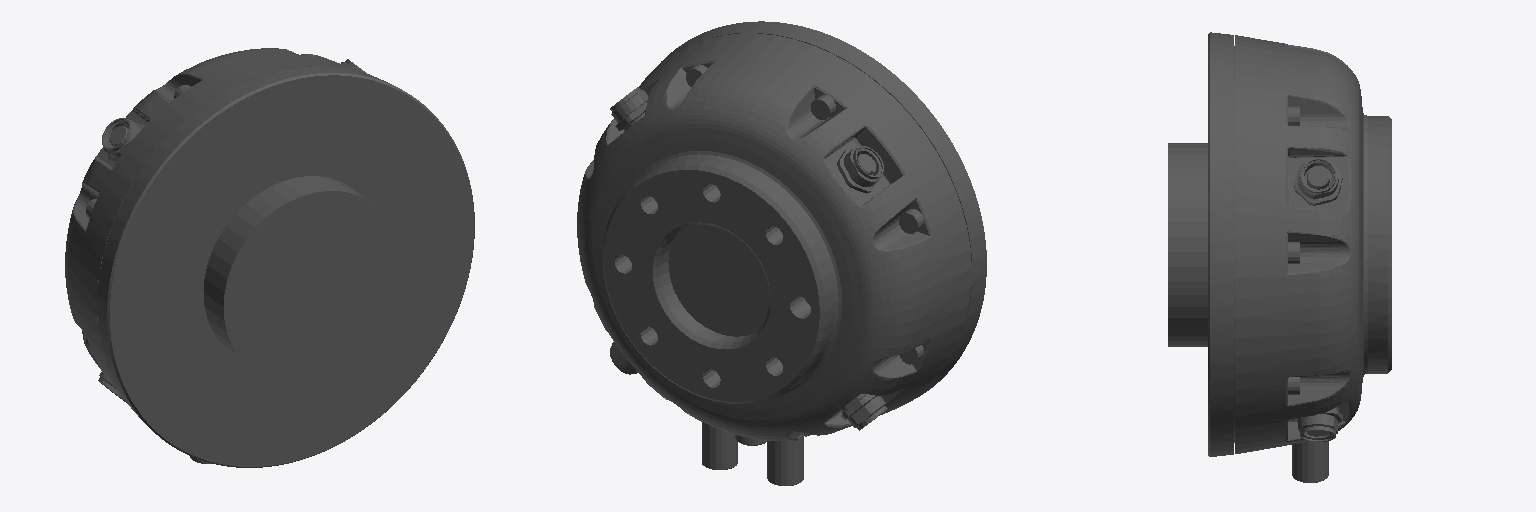
File: lbr_iiwa_14_r820_part_8.obj
3 views of the same model, side by side, from view 1: azimuth 30°, elevation 25°; view 2: azimuth 150°, elevation 25°; view 3: azimuth 270°, elevation 25° (orthographic).
Visible parts, largest first — view 1: mesh 1 LBR IIWA 14 R820.sldasm-Part-14; view 2: mesh 1 LBR IIWA 14 R820.sldasm-Part-14; view 3: mesh 1 LBR IIWA 14 R820.sldasm-Part-14.
Boxes of the visible parts, x1=… form: mesh 1 LBR IIWA 14 R820.sldasm-Part-14: x1=65, y1=48, x2=474, y2=467; mesh 1 LBR IIWA 14 R820.sldasm-Part-14: x1=577, y1=21, x2=986, y2=485; mesh 1 LBR IIWA 14 R820.sldasm-Part-14: x1=1168, y1=32, x2=1391, y2=482.
Size of the model in its own units: 0.1039 by 0.1099 by 0.0549.